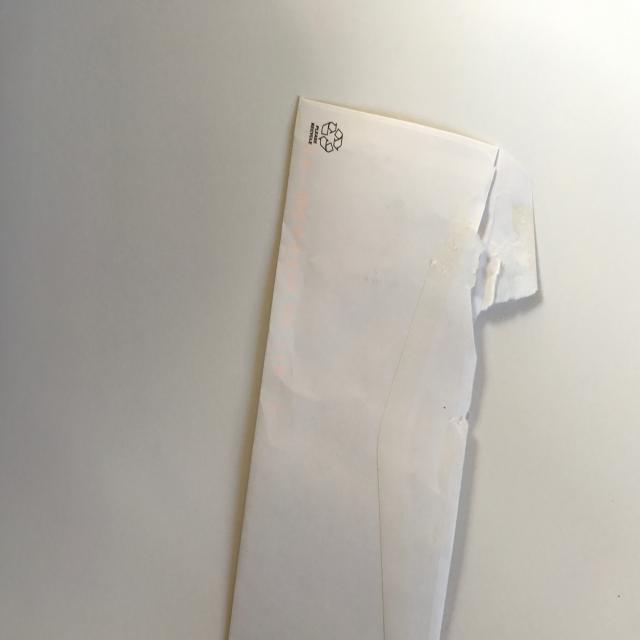paper: (210, 84, 548, 640)
